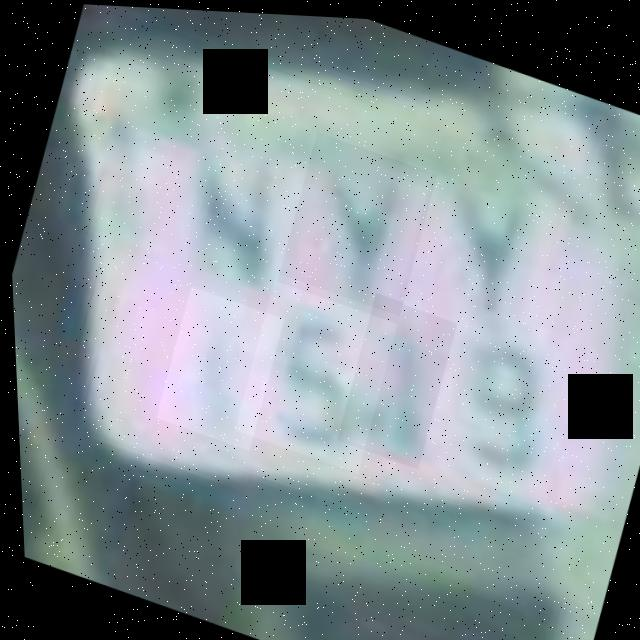1: (327, 288, 459, 467)
5: (225, 270, 401, 472)
7: (147, 282, 286, 450)
9: (415, 294, 589, 495)
N: (134, 117, 323, 313)
Y: (390, 126, 576, 340), (269, 127, 440, 323)
